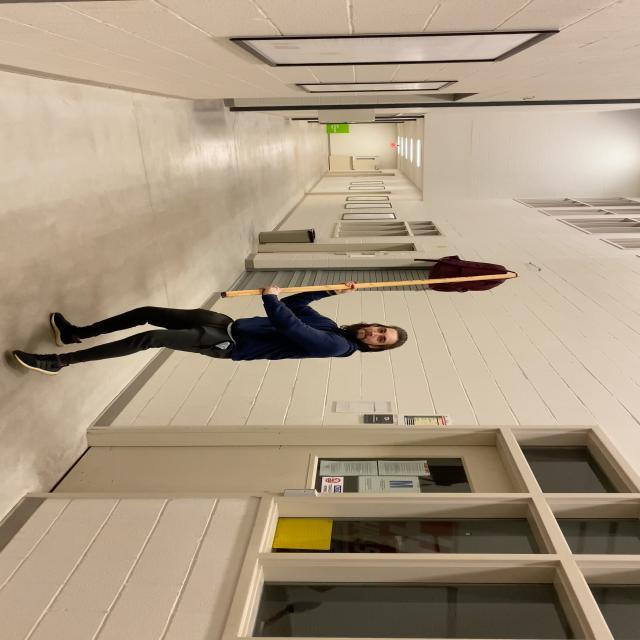Backpacks: (426, 256, 508, 294)
